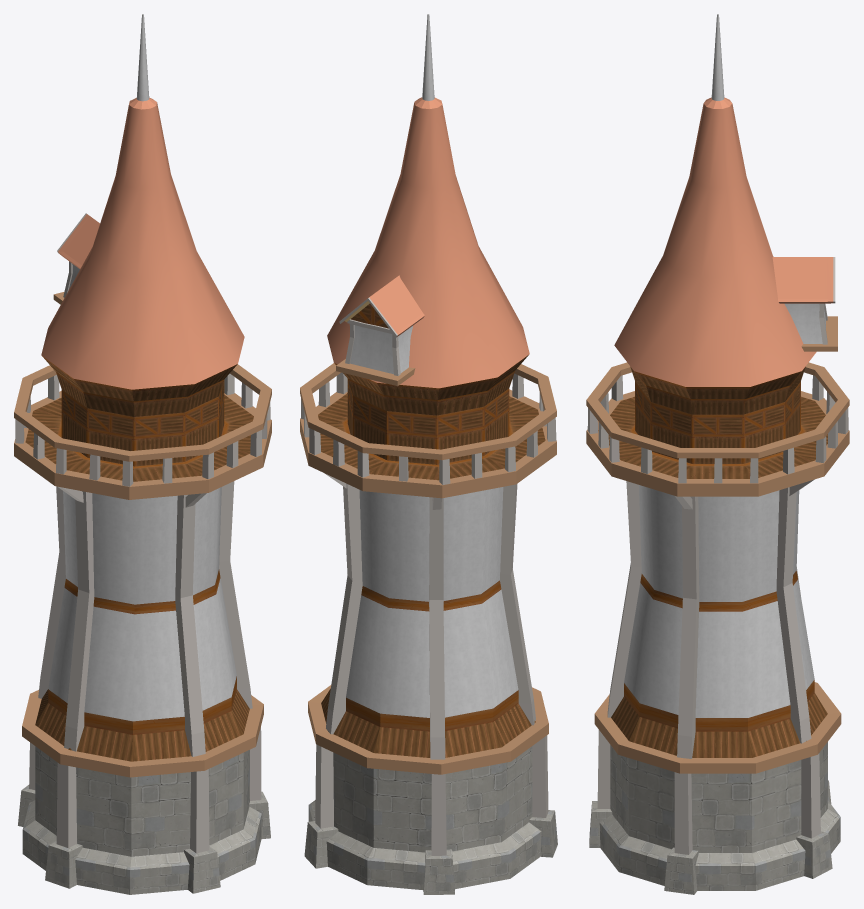
File: Windmill_A_01.fbx
The picture shows the model from 3 angles, left to right: view 1: azimuth 30°, elevation 25°; view 2: azimuth 150°, elevation 25°; view 3: azimuth 270°, elevation 25°; orthographic projection.
Parts seen in each view (by area): view 1: Windmill_A_01; view 2: Windmill_A_01; view 3: Windmill_A_01.
Boxes of the visible parts, box(x1,y1,x2,y2) form: Windmill_A_01: box(14, 14, 271, 894); Windmill_A_01: box(300, 14, 557, 894); Windmill_A_01: box(586, 14, 849, 894).
Bounding box in the file's own units: 1788 × 6409 × 1847.
